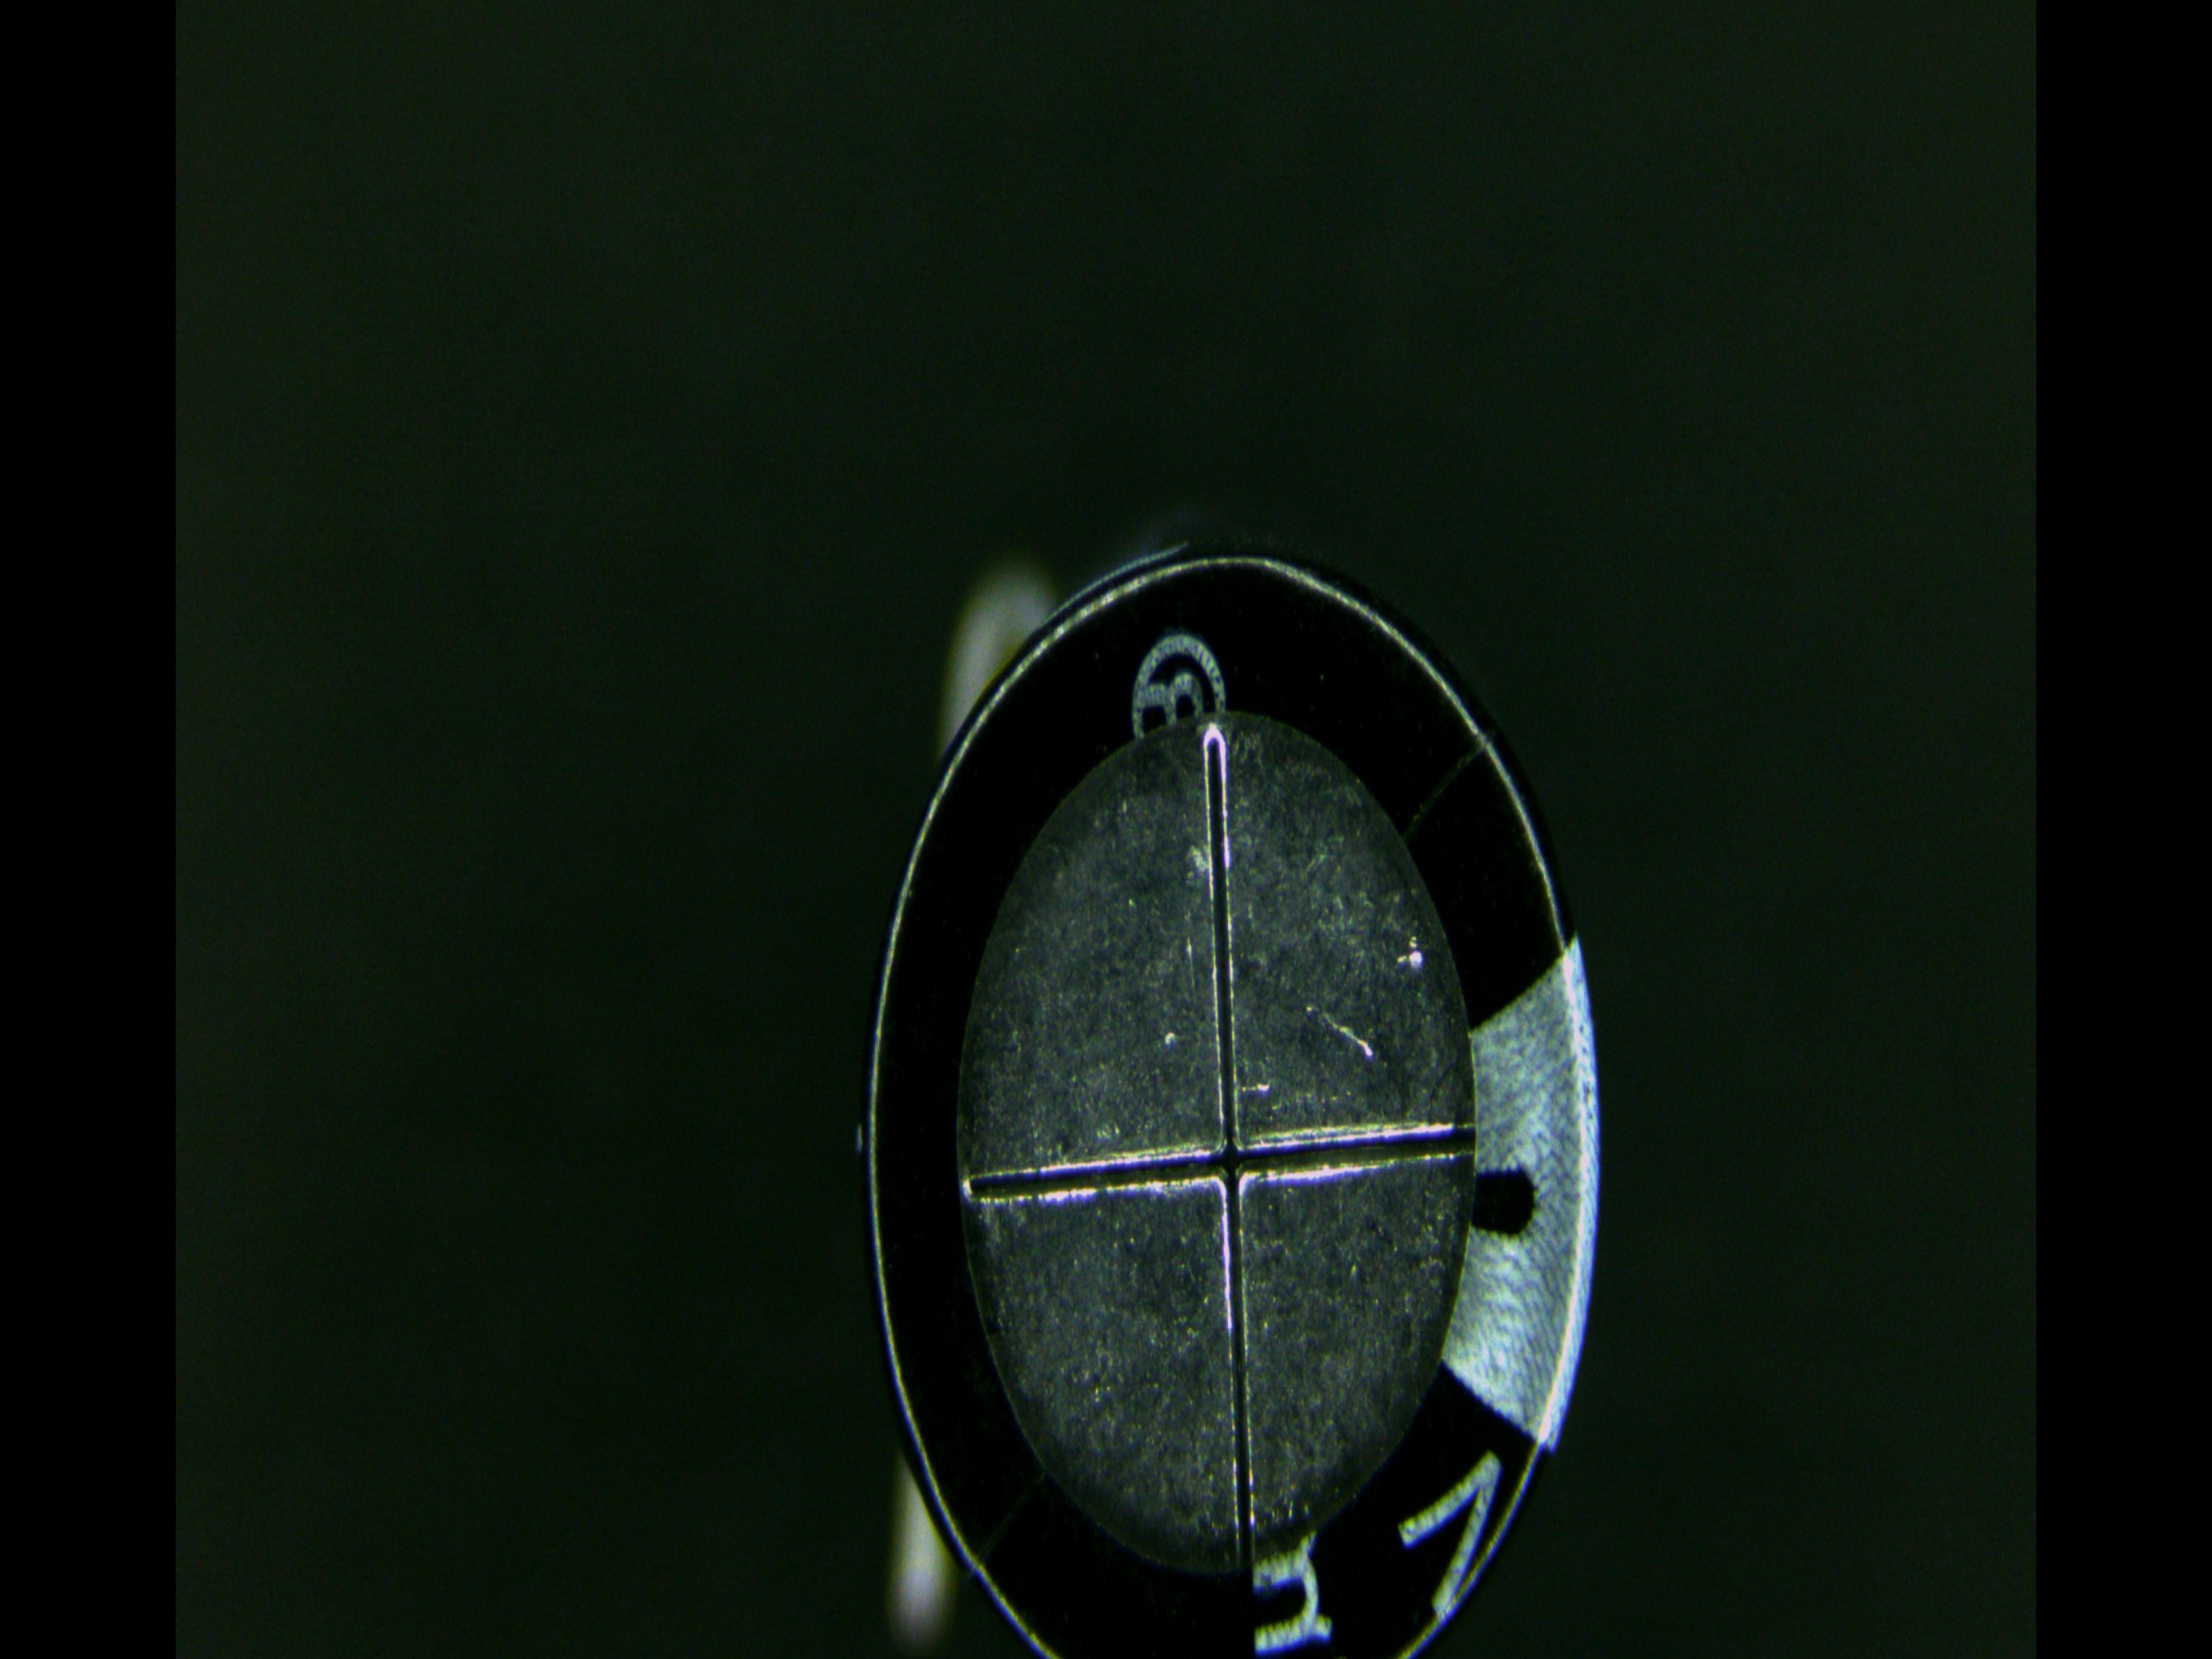c3: (864, 538, 1604, 1659)
